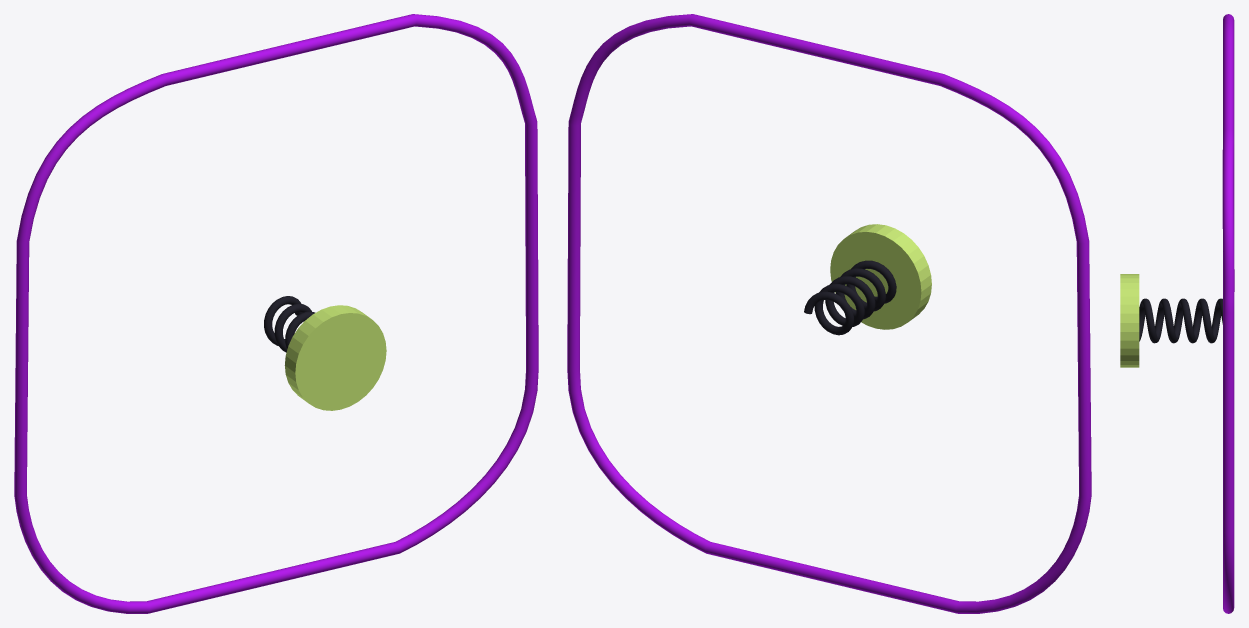
Rendered from leber-lgk-109.glb.
3 renders of one model, left to right at view 1: azimuth 30°, elevation 25°; view 2: azimuth 150°, elevation 25°; view 3: azimuth 270°, elevation 25°, orthographic. The views are drawn at different scales.
Parts seen in each view (by area): view 1: _outline.019, Cylinder.027, Spiral; view 2: _outline.019, Cylinder.027, Spiral; view 3: _outline.019, Spiral, Cylinder.027.
Boxes of the visible parts, x1,y1,x2,y2 form: _outline.019: [14, 14, 538, 613]; Cylinder.027: [284, 305, 386, 410]; Spiral: [264, 296, 315, 352]; _outline.019: [567, 14, 1091, 613]; Cylinder.027: [830, 224, 931, 329]; Spiral: [804, 260, 896, 335]; _outline.019: [1222, 14, 1234, 613]; Spiral: [1139, 298, 1222, 343]; Cylinder.027: [1120, 274, 1139, 367].
Size of the model in its own units: 2.86 by 2.81 by 0.6075.
